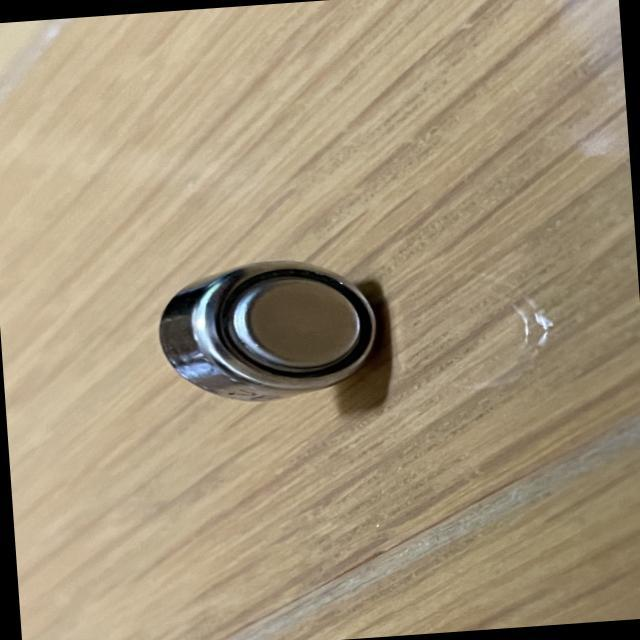COIN: (154, 251, 386, 408)
